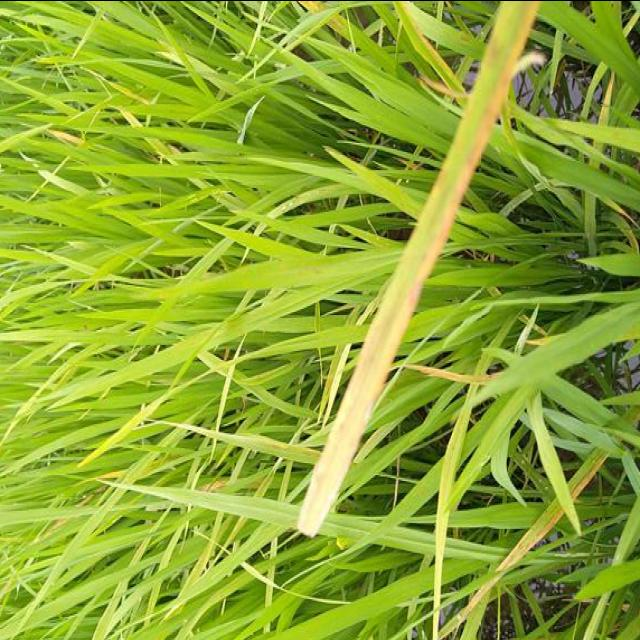Leaf Streak: (298, 0, 543, 537)
